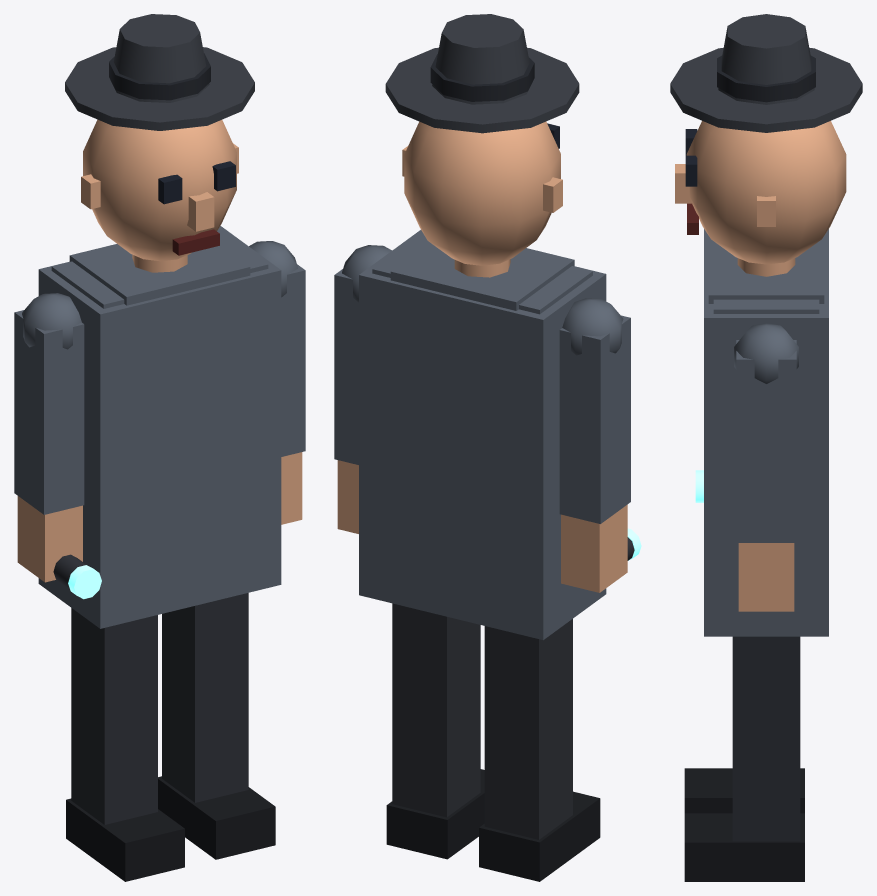
The model's file is agent.glb.
3 views of the same model, side by side, from view 1: azimuth 30°, elevation 25°; view 2: azimuth 150°, elevation 25°; view 3: azimuth 270°, elevation 25° (orthographic).
Parts seen in each view (by area): view 1: Body, LegR, LegL, ArmR, Head, Hat, ArmL, Lamp, Mouth; view 2: Body, LegR, LegL, ArmR, Head, Hat, ArmL; view 3: Body, LegL, Head, ArmL, Hat, LegR.
Boxes of the visible parts, x1,y1,x2,y2 form: Body: [38, 226, 281, 628]; LegR: [66, 608, 184, 881]; LegL: [158, 593, 275, 859]; ArmR: [14, 293, 84, 582]; Head: [81, 119, 238, 261]; Hat: [65, 14, 254, 130]; ArmL: [249, 241, 305, 524]; Lamp: [53, 554, 101, 599]; Mouth: [172, 229, 219, 255]; Body: [359, 230, 606, 640]; LegR: [479, 619, 600, 881]; LegL: [386, 603, 484, 859]; ArmR: [559, 298, 630, 592]; Head: [402, 121, 562, 265]; Hat: [385, 14, 579, 133]; ArmL: [334, 245, 391, 533]; Body: [704, 229, 828, 636]; LegL: [684, 636, 804, 881]; Head: [675, 121, 846, 264]; ArmL: [734, 323, 798, 611]; Hat: [670, 14, 862, 132]; LegR: [684, 768, 804, 813].
Bounding box in the file's own units: 0.6556 × 1.87 × 0.4.
